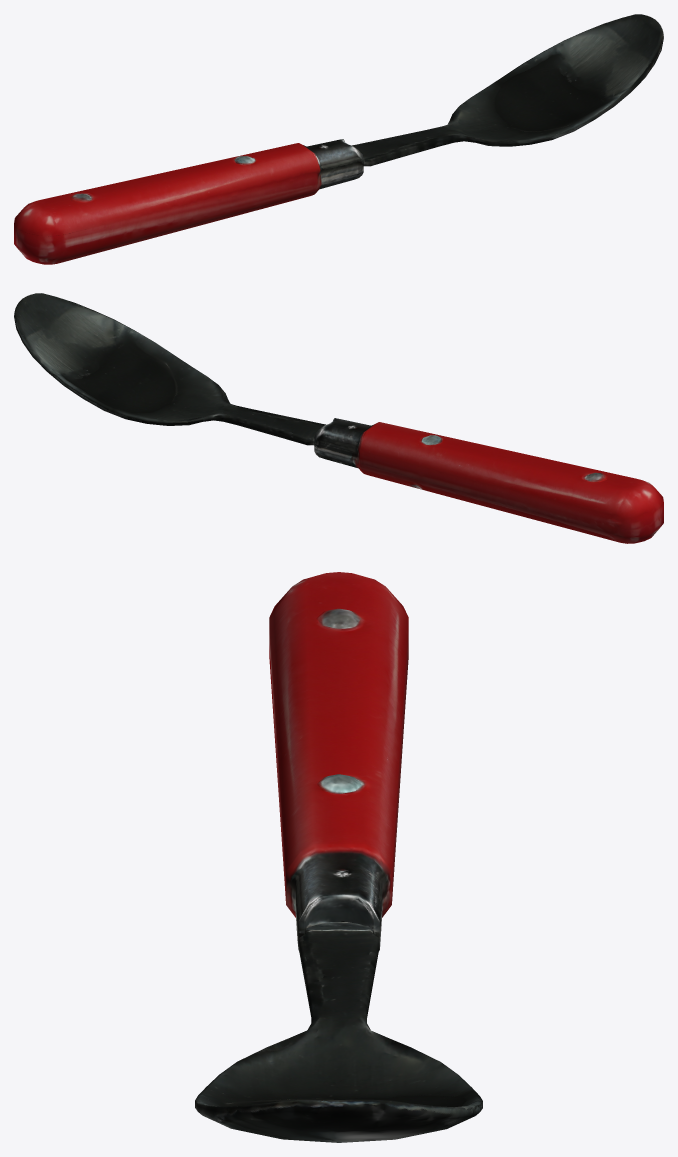
Rendered from 031_spoon.dae.
3 renders of one model, top to bottom at view 1: azimuth 30°, elevation 25°; view 2: azimuth 150°, elevation 25°; view 3: azimuth 270°, elevation 25°, orthographic. The views are drawn at different scales.
Visible parts, largest first — view 1: 031_spoon; view 2: 031_spoon; view 3: 031_spoon.
Part boxes in pixels (x1=…): 031_spoon: x1=14, y1=14, x2=663, y2=264; 031_spoon: x1=14, y1=293, x2=663, y2=543; 031_spoon: x1=195, y1=572, x2=482, y2=1142.
Size of the model in its own units: 0.1957 by 0.0382 by 0.0274.
Materials: 1 (1 with a texture image).
